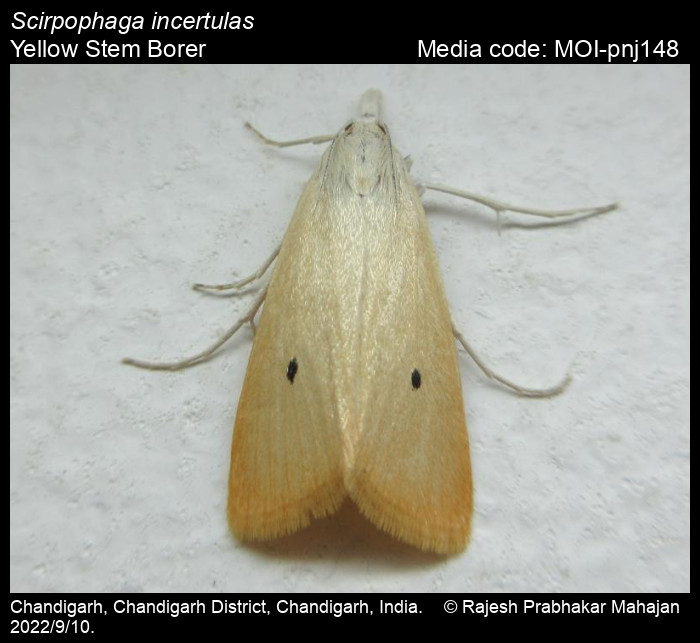Crambidae: (124, 76, 624, 557)
